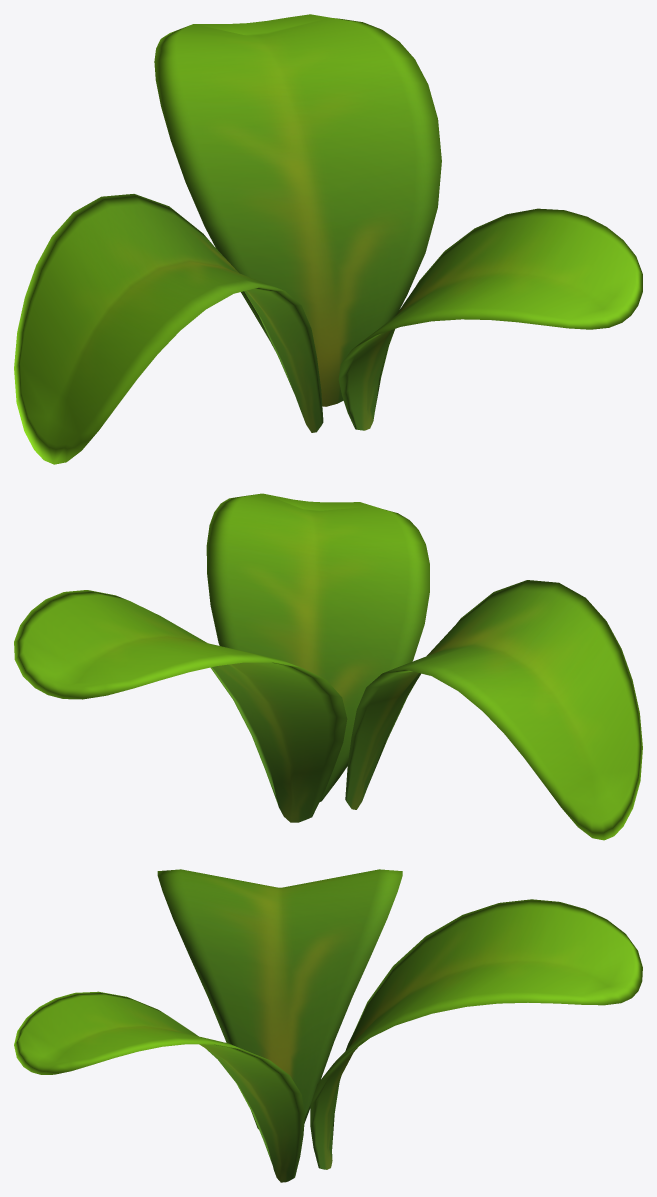
File: Grass_Rounded02.fbx
The picture shows the model from 3 angles, top to bottom: view 1: azimuth 30°, elevation 25°; view 2: azimuth 150°, elevation 25°; view 3: azimuth 270°, elevation 25°; orthographic projection. The views are drawn at different scales.
Parts seen in each view (by area): view 1: Grass_Rounded01_L.018; view 2: Grass_Rounded01_L.018; view 3: Grass_Rounded01_L.018.
Part boxes in pixels (x1,y1,x2,y2): Grass_Rounded01_L.018: (14,14,642,464); Grass_Rounded01_L.018: (14,493,642,840); Grass_Rounded01_L.018: (14,869,642,1182).
Bounding box in the file's own units: 57.04 × 30.4 × 68.51.
Materials: 1 (1 with a texture image).
